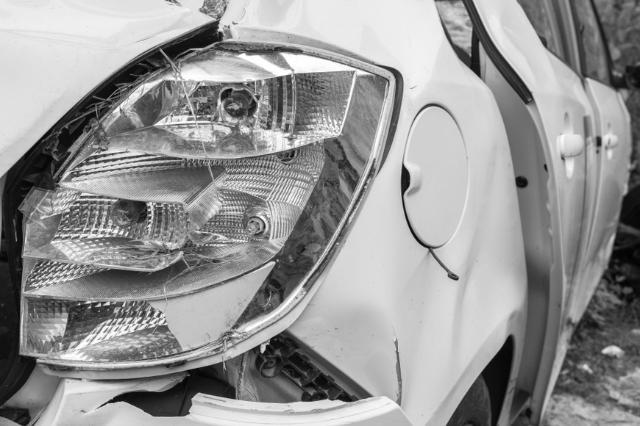Fender: (389, 318, 448, 419)
Light: (42, 18, 322, 341)
